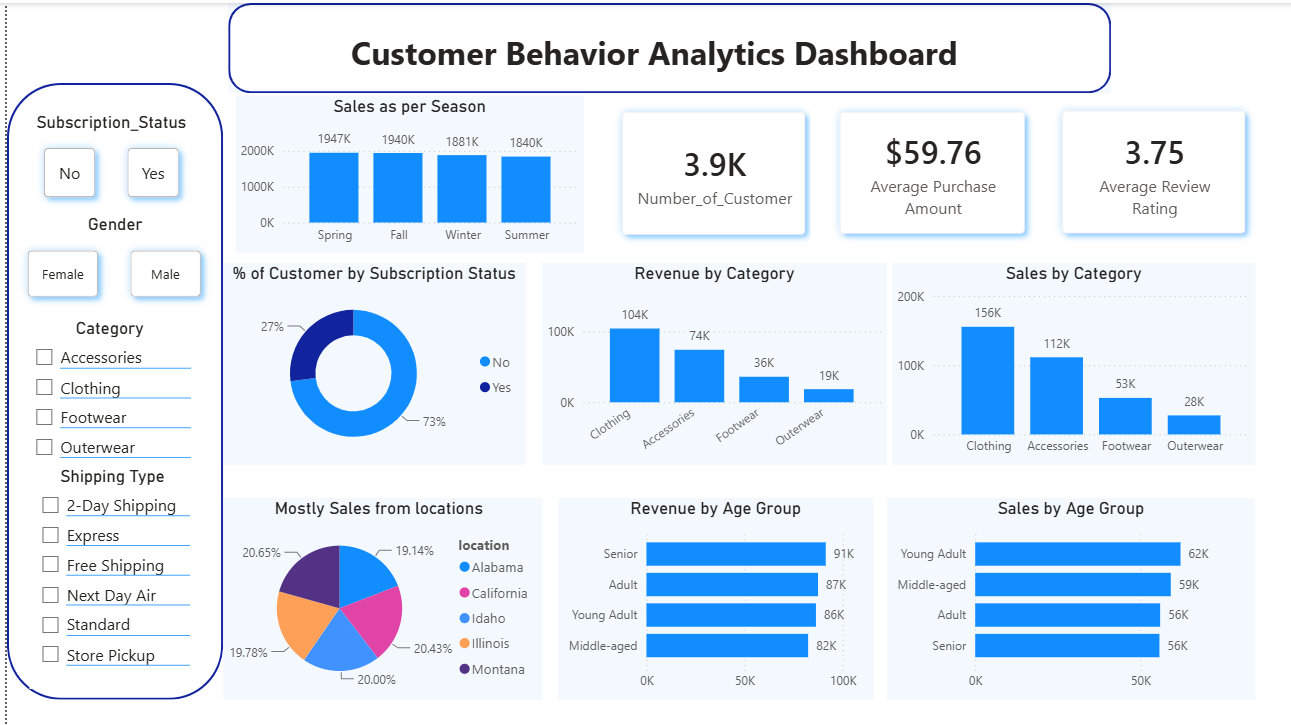

This screenshot's page, from the dashboard's own definition file:
{"tool":"powerbi","page":{"name":"Page 1","canvas":[1280,720],"ordinal":0},"visuals":[{"type":"cardVisual","fields":{"Data":["customer_behaviour customer_dataset.Number_of_Customer"]},"box":[583.9,79.8,240.7,180.9],"z":0},{"type":"cardVisual","fields":{"Data":["customer_behaviour customer_dataset.Average Purchase Amount"]},"box":[800.4,79.8,242.1,179.4],"z":1000},{"type":"cardVisual","fields":{"Data":["customer_behaviour customer_dataset.Average Review Rating"]},"box":[1021.1,78.3,240.7,180.9],"z":2000},{"type":"donutChart","title":"% of Customer by Subscription Status","fields":{"Y":["CountNonNull(customer_behaviour customer_dataset.subscription_status)"],"Category":["customer_behaviour customer_dataset.subscription_status"]},"box":[215,259.2,300.5,200.8],"z":3000},{"type":"columnChart","title":"Revenue by Category","fields":{"Category":["customer_behaviour customer_dataset.category"],"Y":["Sum(customer_behaviour customer_dataset.purchase_amount)"]},"box":[532.6,259.2,343.2,200.8],"z":4000},{"type":"columnChart","title":"Sales by Category","fields":{"Category":["customer_behaviour customer_dataset.category"],"Y":["Sum(customer_behaviour customer_dataset.purchase_frequency_days)"]},"box":[880.1,259.2,361.7,200.8],"z":5000},{"type":"clusteredBarChart","title":"Revenue by Age Group","fields":{"Category":["customer_behaviour customer_dataset.age_group"],"Y":["Sum(customer_behaviour customer_dataset.purchase_frequency_days)"]},"box":[548.3,492.7,313.3,200.8],"z":6000},{"type":"clusteredBarChart","title":"Sales by Age Group","fields":{"Category":["customer_behaviour customer_dataset.age_group"],"Y":["Sum(customer_behaviour customer_dataset.purchase_amount)"]},"box":[875.8,492.7,366,200.8],"z":7000},{"type":"pieChart","title":"Mostly Sales from locations","fields":{"Series":["customer_behaviour customer_dataset.location"],"Y":["CountNonNull(customer_behaviour customer_dataset.item_purchased)"]},"box":[207.9,492.7,324.7,200.8],"z":8000},{"type":"shape","box":[0,79.8,215,613.8],"z":9000},{"type":"advancedSlicerVisual","title":"Subscription_Status","fields":{"Values":["customer_behaviour customer_dataset.subscription_status"]},"box":[19.9,108.2,168,102.5],"z":10000},{"type":"advancedSlicerVisual","title":"Gender","fields":{"Values":["customer_behaviour customer_dataset.gender"]},"box":[4.3,210.8,207.9,99.7],"z":11000},{"type":"slicer","title":"Category","fields":{"Values":["customer_behaviour customer_dataset.category"]},"box":[15.7,313.3,172.3,160.9],"z":12000},{"type":"slicer","title":"Shipping Type","fields":{"Values":["customer_behaviour customer_dataset.shipping_type"]},"box":[22.8,460,165.2,222.2],"z":13000},{"type":"shape","box":[220.7,0,878.7,89.7],"z":14000},{"type":"textbox","box":[227.9,22.8,833.1,55.5],"z":15000},{"type":"clusteredColumnChart","title":"Sales as per Season","fields":{"Category":["customer_behaviour customer_dataset.season"],"Y":["Sum(customer_behaviour customer_dataset.customer_id)"]},"box":[227.9,92.6,346.1,156.7],"z":16000}]}

Visuals, with their boxes in screenshot pixels (x1, y1, x2, y2), scaled from the page's 1280x720 canvas onto the 1291x725 screenshot:
cardVisual - customer_behaviour customer_dataset.Number_of_Customer: <region>589, 80, 832, 263</region>
cardVisual - customer_behaviour customer_dataset.Average Purchase Amount: <region>807, 80, 1051, 261</region>
cardVisual - customer_behaviour customer_dataset.Average Review Rating: <region>1030, 79, 1273, 261</region>
"% of Customer by Subscription Status" donutChart: <region>217, 261, 520, 463</region>
"Revenue by Category" columnChart: <region>537, 261, 883, 463</region>
"Sales by Category" columnChart: <region>888, 261, 1252, 463</region>
"Revenue by Age Group" clusteredBarChart: <region>553, 496, 869, 698</region>
"Sales by Age Group" clusteredBarChart: <region>883, 496, 1252, 698</region>
"Mostly Sales from locations" pieChart: <region>210, 496, 537, 698</region>
shape: <region>0, 80, 217, 698</region>
"Subscription_Status" advancedSlicerVisual: <region>20, 109, 190, 212</region>
"Gender" advancedSlicerVisual: <region>4, 212, 214, 313</region>
"Category" slicer: <region>16, 315, 190, 477</region>
"Shipping Type" slicer: <region>23, 463, 190, 687</region>
shape: <region>223, 0, 1109, 90</region>
textbox: <region>230, 23, 1070, 79</region>
"Sales as per Season" clusteredColumnChart: <region>230, 93, 579, 251</region>
